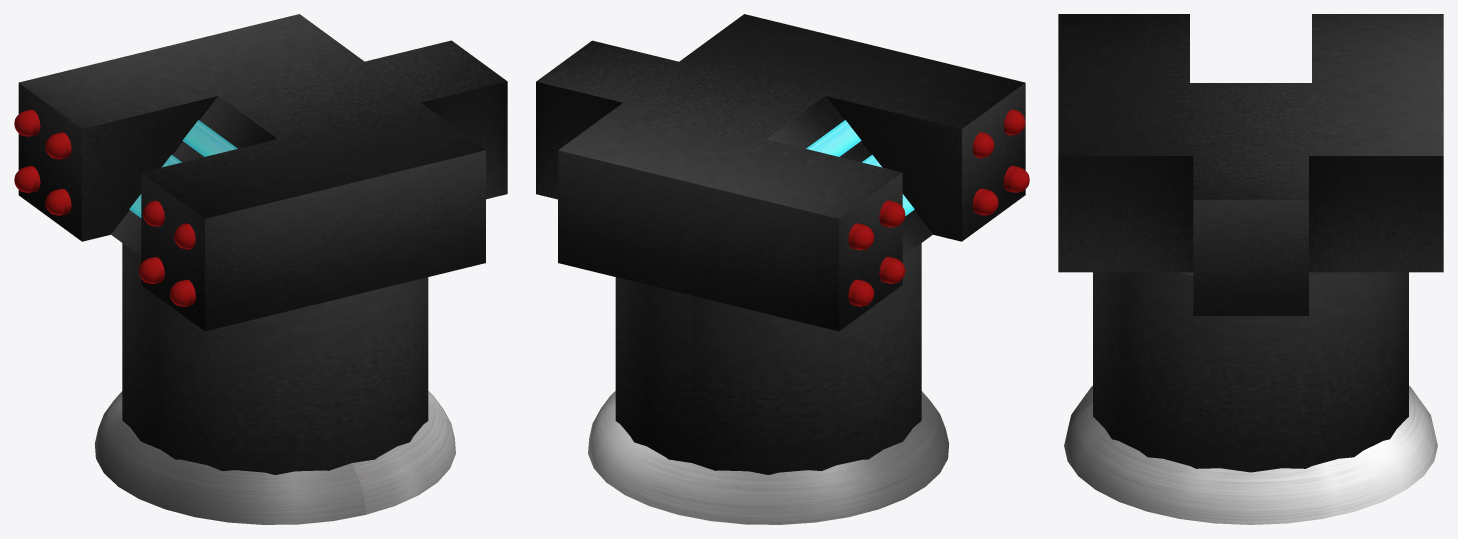
File: TorretaTexturizada.fbx
3 views of the same model, side by side, from view 1: azimuth 30°, elevation 25°; view 2: azimuth 150°, elevation 25°; view 3: azimuth 270°, elevation 25° (orthographic). The views are drawn at different scales.
Parts seen in each view (by area): view 1: Disparador, SoporteArriba, SoporteAbajo, Box004, Capsule002, Capsule001, Capsule004, Capsule008, Capsule007, Capsule003; view 2: Disparador, SoporteArriba, SoporteAbajo, Box004, Capsule001, Capsule002, Capsule008, Capsule007, Capsule004, Capsule003; view 3: Disparador, SoporteArriba, SoporteAbajo.
Part boxes in pixels (left/top/right/bottom): Disparador: left=18, top=14, right=507, bottom=331; SoporteArriba: left=122, top=243, right=428, bottom=474; SoporteAbajo: left=95, top=391, right=455, bottom=524; Box004: left=182, top=120, right=237, bottom=156; Capsule002: left=45, top=132, right=71, bottom=159; Capsule001: left=14, top=109, right=40, bottom=136; Capsule004: left=45, top=188, right=71, bottom=215; Capsule008: left=170, top=279, right=195, bottom=306; Capsule007: left=138, top=257, right=164, bottom=283; Capsule003: left=14, top=166, right=40, bottom=192; Disparador: left=536, top=14, right=1025, bottom=331; SoporteArriba: left=615, top=243, right=921, bottom=474; SoporteAbajo: left=588, top=391, right=948, bottom=524; Box004: left=806, top=120, right=861, bottom=156; Capsule001: left=848, top=223, right=874, bottom=250; Capsule002: left=879, top=200, right=905, bottom=227; Capsule008: left=1003, top=165, right=1029, bottom=192; Capsule007: left=972, top=188, right=998, bottom=215; Capsule004: left=879, top=257, right=905, bottom=283; Capsule003: left=848, top=279, right=874, bottom=306; Disparador: left=1058, top=14, right=1443, bottom=315; SoporteArriba: left=1093, top=272, right=1408, bottom=472; SoporteAbajo: left=1064, top=386, right=1437, bottom=524.
Size of the model in its own units: 0.3587 by 0.3 by 0.3.
Materials: 4 (4 with a texture image).
